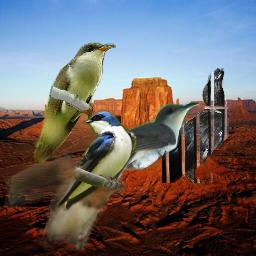Crow: (162, 68, 229, 183)
Cuckoo: (32, 42, 116, 165), (102, 101, 201, 190)
Swallow: (4, 153, 125, 251), (55, 110, 137, 211)
